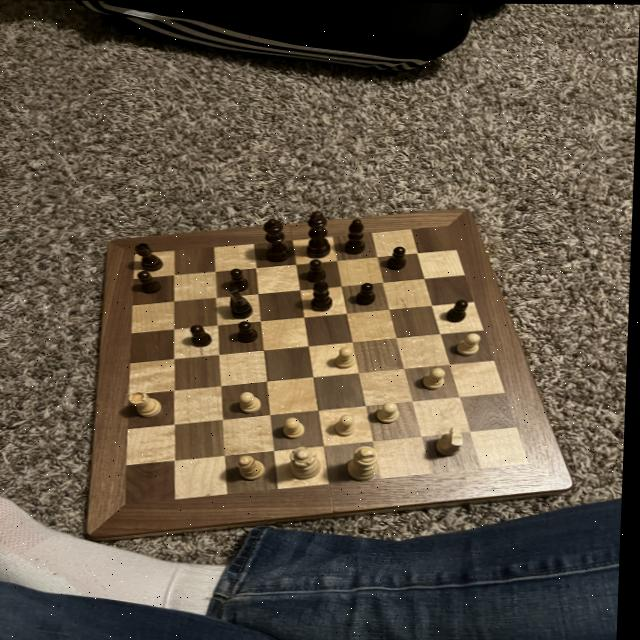bishop: (343, 217, 372, 256), (310, 277, 339, 314)
black-bishop: (301, 207, 338, 261)
black-king: (226, 285, 261, 320)
black-knight: (225, 267, 254, 294), (136, 270, 165, 295), (236, 320, 262, 346), (189, 324, 216, 349), (448, 296, 472, 324), (387, 243, 410, 270), (306, 258, 330, 283), (355, 280, 378, 306)
black-pawn: (260, 214, 297, 264)
black-queen: (134, 242, 166, 273)
black-rook: (239, 452, 273, 482)
white-bishop: (346, 441, 387, 484)
white-king: (436, 423, 470, 459)
white-knight: (373, 399, 407, 427), (455, 330, 488, 358), (239, 389, 267, 417), (423, 365, 450, 391), (337, 414, 362, 438), (333, 346, 359, 369), (284, 416, 310, 438)
white-pawn: (290, 441, 326, 482)
white-queen: (128, 391, 169, 419)
